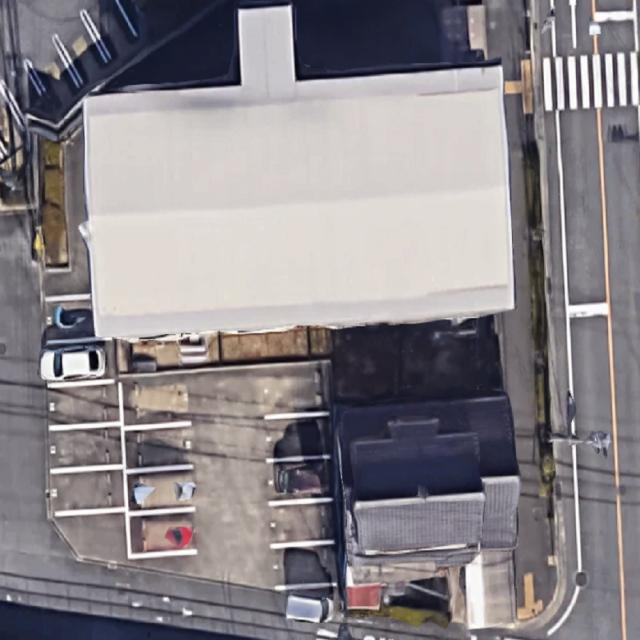Batiment: (84, 6, 514, 338), (336, 392, 521, 566)
